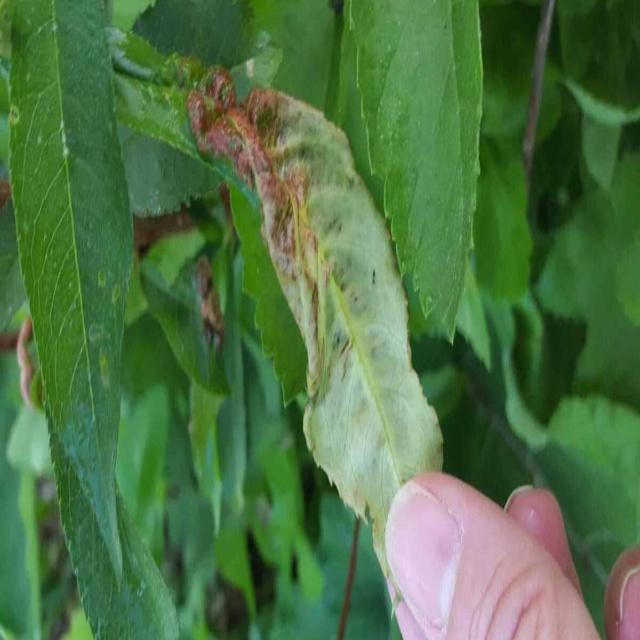leaf_curl: (139, 8, 401, 401)
